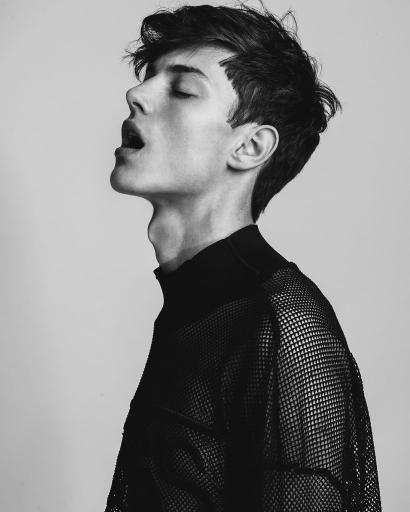left_eye: (170, 87, 203, 106)
left_lip_corner: (138, 140, 150, 156)
